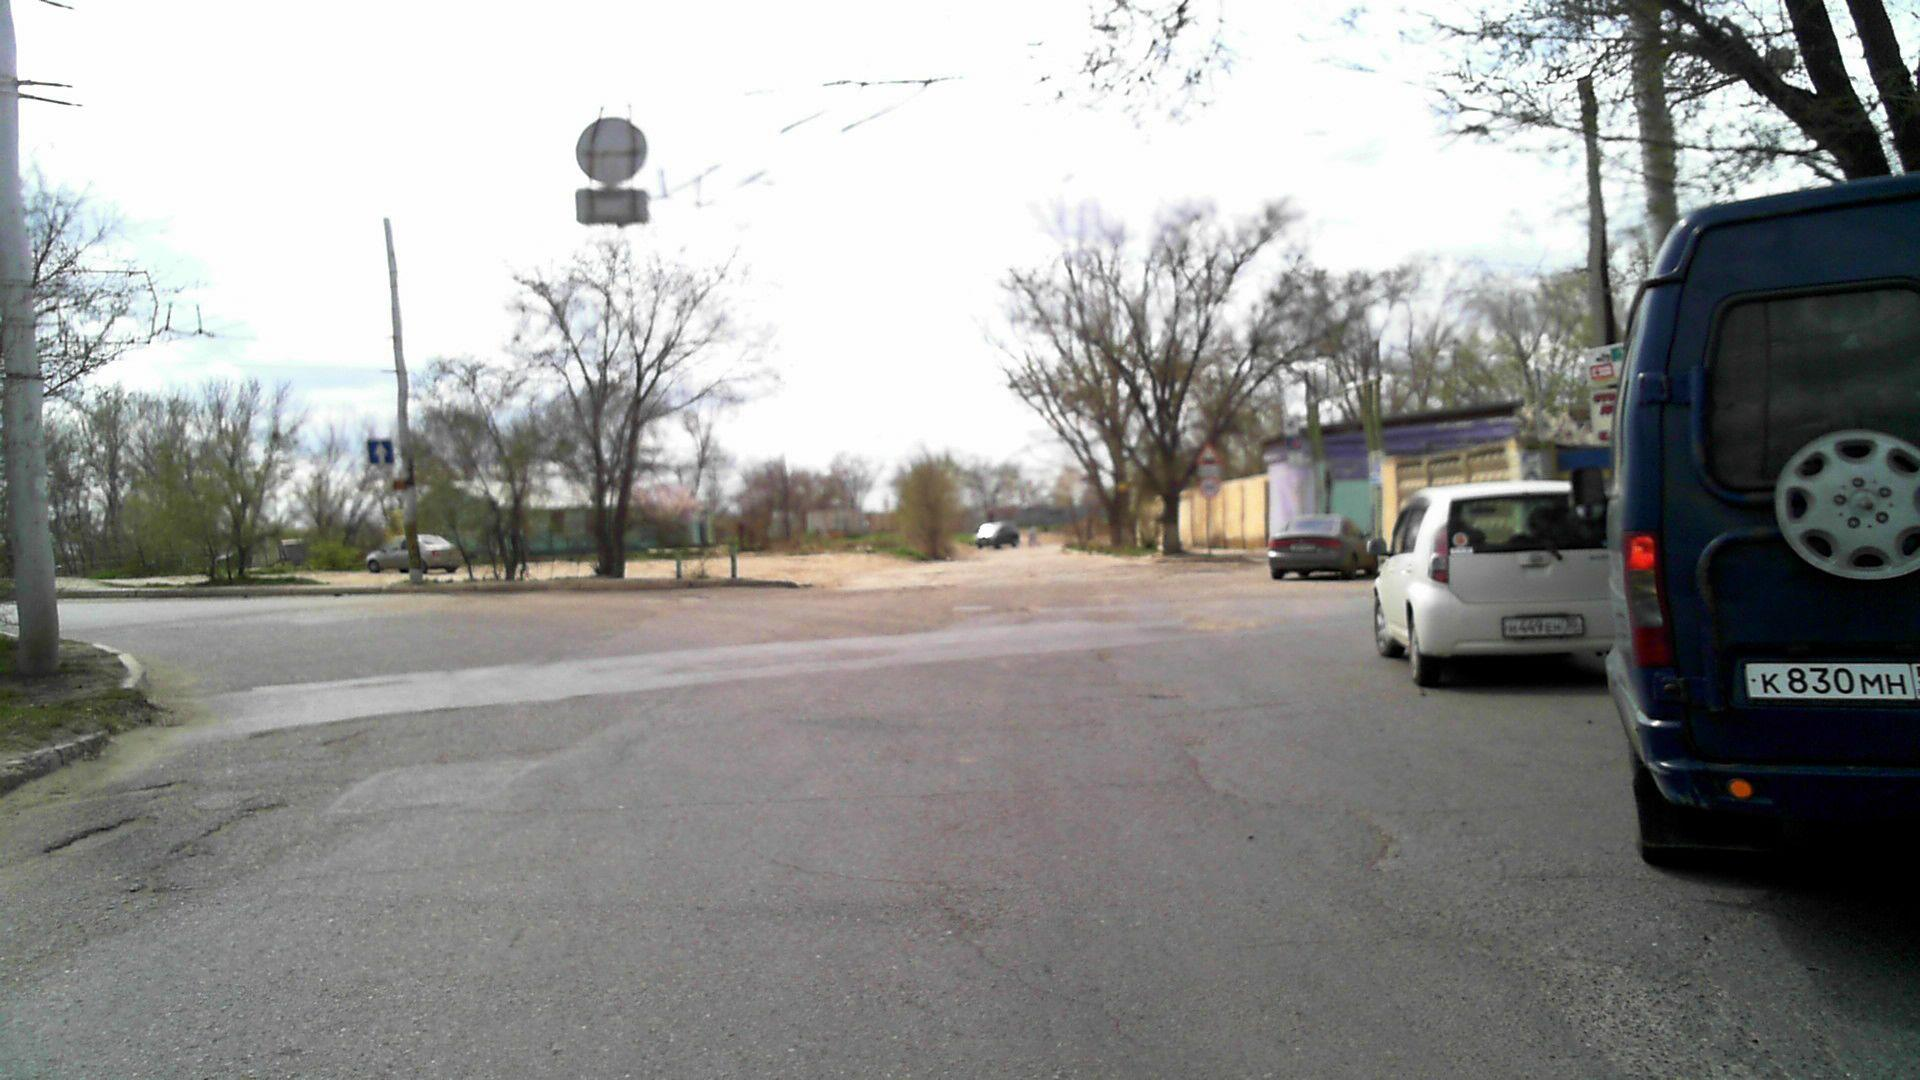5_5: (367, 433, 396, 465)
